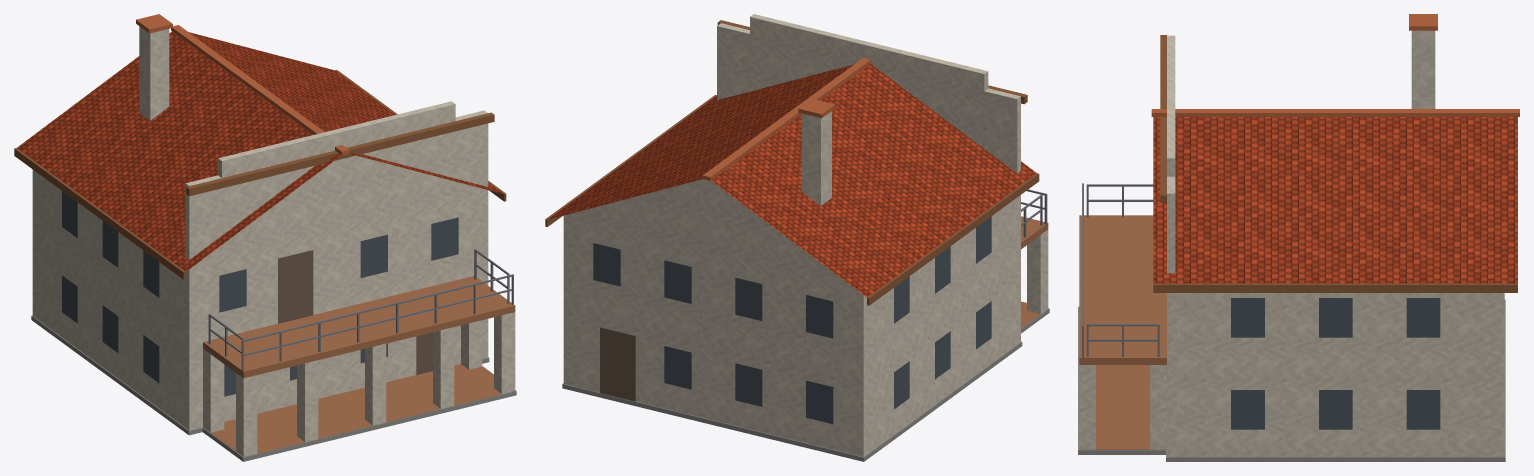
Rendered from cr-mission-house.towns-v1.lod1.glb.
The picture shows the model from 3 angles, left to right: view 1: azimuth 30°, elevation 25°; view 2: azimuth 150°, elevation 25°; view 3: azimuth 270°, elevation 25°; orthographic projection. The views are drawn at different scales.
Visible parts, largest first — view 1: cr-mission-house; view 2: cr-mission-house; view 3: cr-mission-house.
Boxes of the visible parts, x1,y1,x2,y2 form: cr-mission-house: [14, 14, 516, 461]; cr-mission-house: [545, 14, 1049, 461]; cr-mission-house: [1078, 14, 1519, 461].
Bounding box in the file's own units: 11.88 × 10.74 × 13.08.
3 materials, 2 textured.
